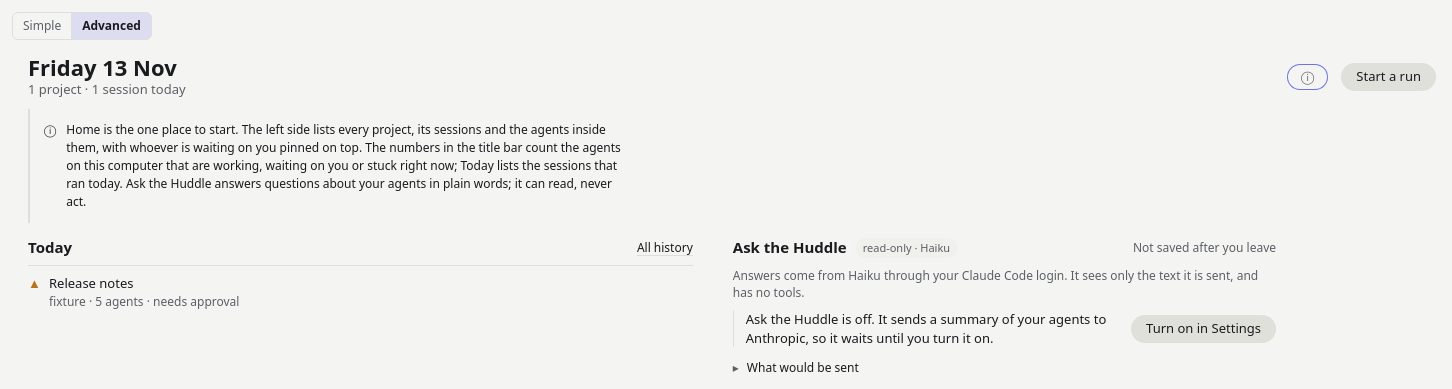
Test case: Explain this screen › hides the explanation when the view switches to Simple while the screen is open
Expected: the element with class "explain-note" is shown, [28, 109, 646, 223]
Step 1. Click the button "Simple" → (43, 26), box [13, 13, 72, 39]
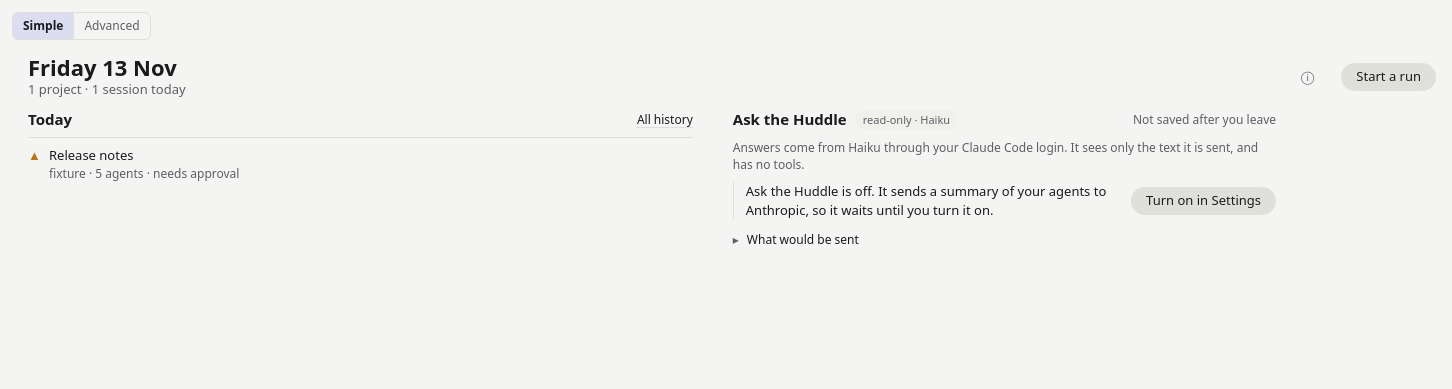
Now the element with class "explain-note" is gone
Step 2. Click the button "ⓘ" → (1308, 77), box [1286, 63, 1329, 91]
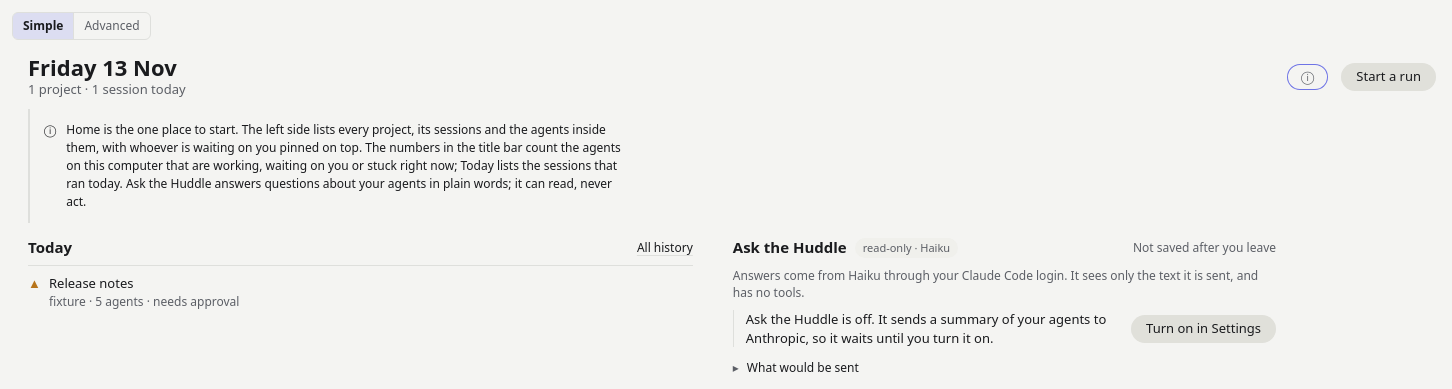
Now the element with class "explain-note" is shown, box [28, 109, 646, 223]
